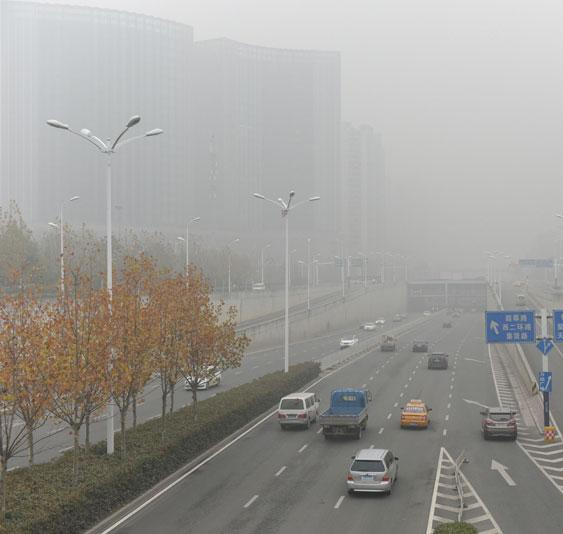bus: (319, 388, 372, 441)
car: (348, 447, 399, 496), (278, 392, 318, 432), (479, 405, 518, 439), (399, 397, 432, 430), (183, 364, 222, 391), (427, 350, 450, 369), (339, 334, 360, 351), (413, 338, 429, 352), (514, 294, 528, 308), (363, 322, 376, 332), (441, 319, 453, 328), (374, 317, 386, 326), (392, 313, 402, 323)
